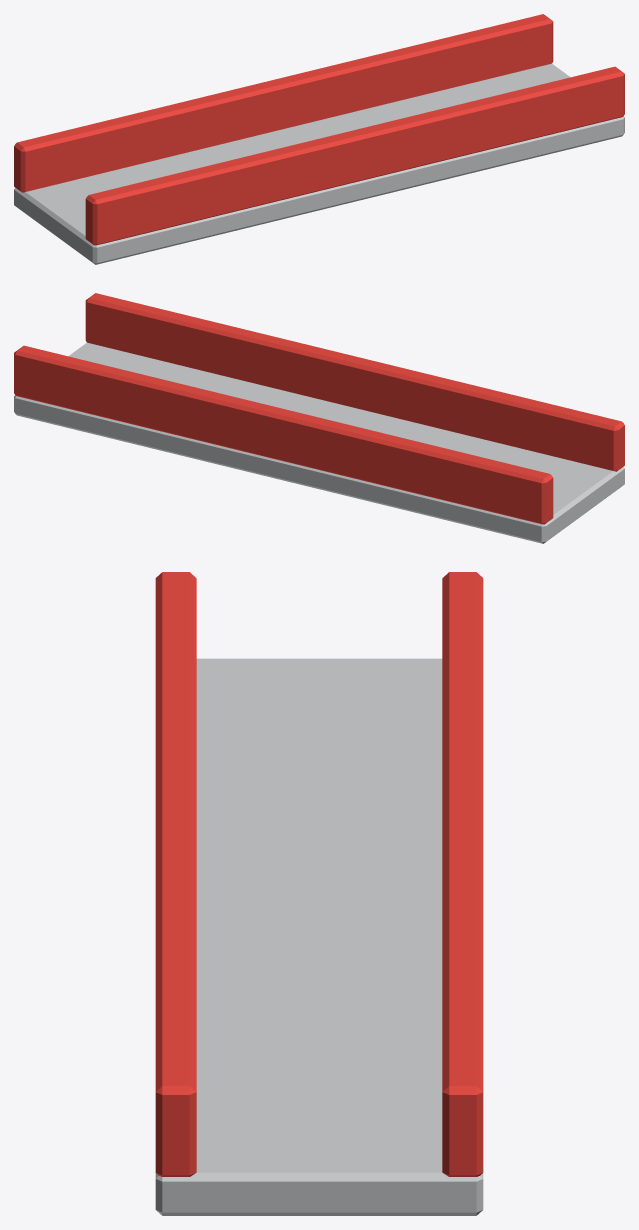
Rendered from launch_track.glb.
The picture shows the model from 3 angles, top to bottom: view 1: azimuth 30°, elevation 25°; view 2: azimuth 150°, elevation 25°; view 3: azimuth 270°, elevation 25°; orthographic projection. The views are drawn at different scales.
Parts seen in each view (by area): view 1: launch_track; view 2: launch_track; view 3: launch_track.
Boxes of the visible parts, box(x1,y1,x2,y2) form: launch_track: box(14, 14, 624, 264); launch_track: box(14, 293, 624, 543); launch_track: box(155, 572, 483, 1215).
Size of the model in its own units: 0.9 by 0.105 by 0.24.
